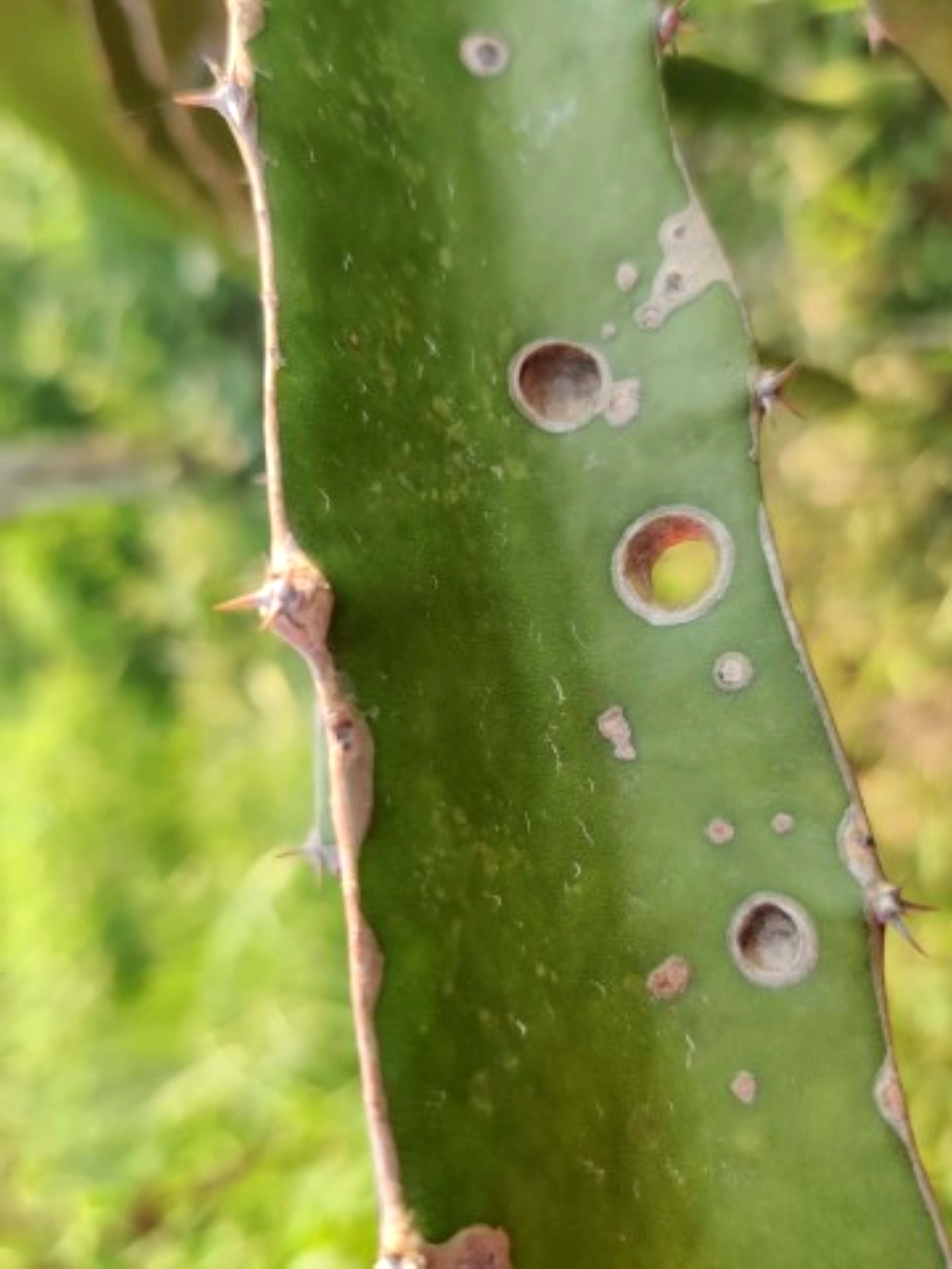stemcanker: (248, 0, 892, 1155)
